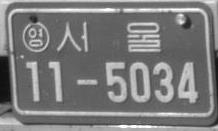-: (75, 77, 98, 87)
0: (128, 60, 152, 104)
1: (44, 60, 69, 102), (21, 60, 44, 102)
3: (152, 60, 174, 104)
4: (175, 60, 199, 103)
5: (104, 61, 128, 103)
서울_D: (56, 21, 160, 53)
영: (20, 21, 50, 52)
